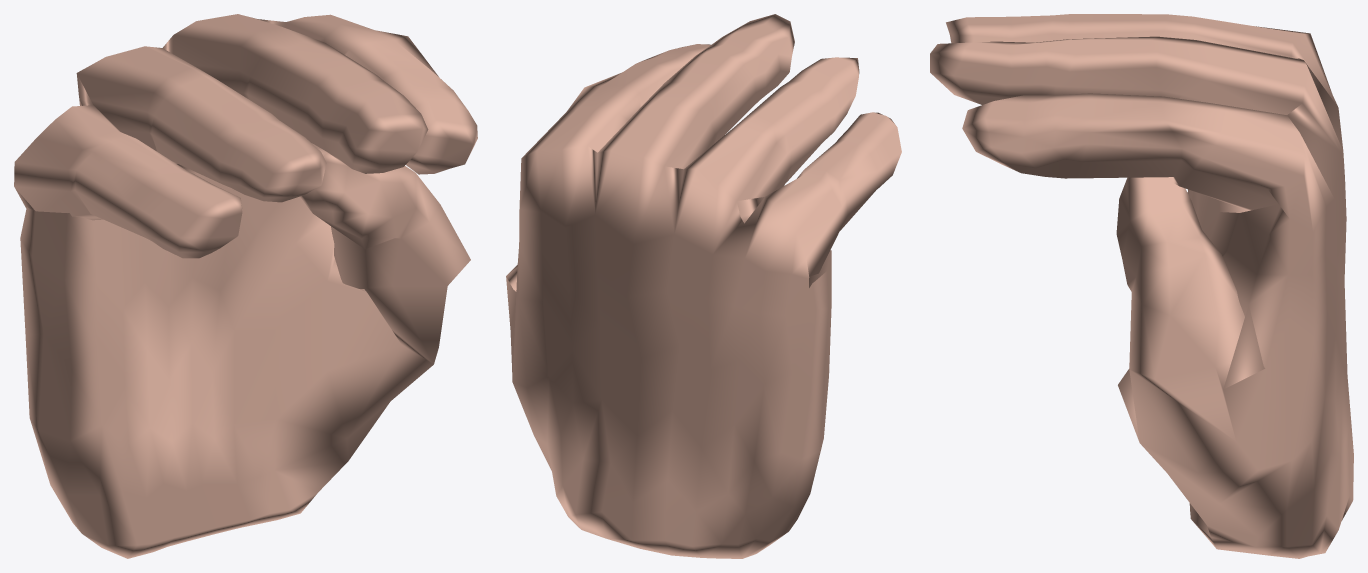
The model's file is ANGULO_SEM_POLEGAR.obj.
The picture shows the model from 3 angles, left to right: view 1: azimuth 30°, elevation 25°; view 2: azimuth 150°, elevation 25°; view 3: azimuth 270°, elevation 25°; orthographic projection. The views are drawn at different scales.
Parts seen in each view (by area): view 1: mao_dir:mao_dir; view 2: mao_dir:mao_dir; view 3: mao_dir:mao_dir.
Part boxes in pixels (bbox=[...]): mao_dir:mao_dir: bbox=[14, 14, 477, 558]; mao_dir:mao_dir: bbox=[506, 14, 901, 558]; mao_dir:mao_dir: bbox=[930, 14, 1353, 558].
Bounding box in the file's own units: 134 × 158 × 124.
